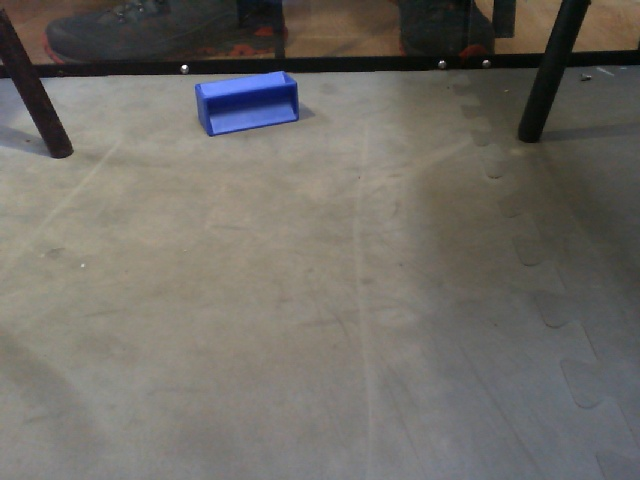BlueSample: (191, 69, 301, 142)
